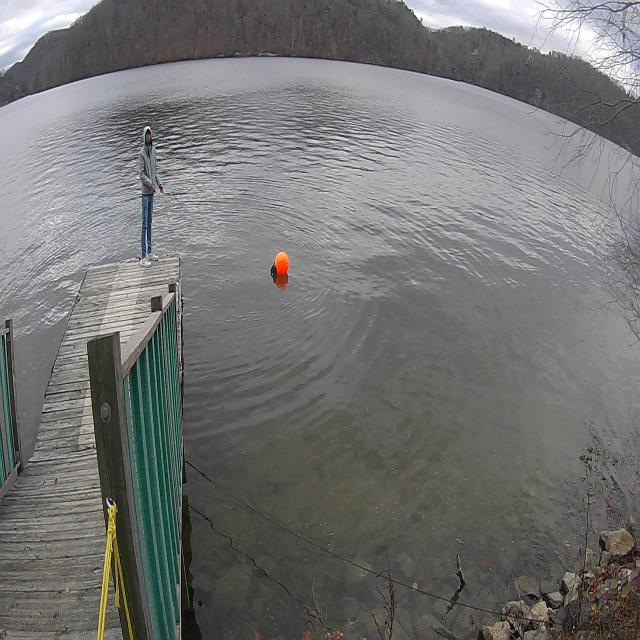Buoy: (268, 246, 293, 287)
